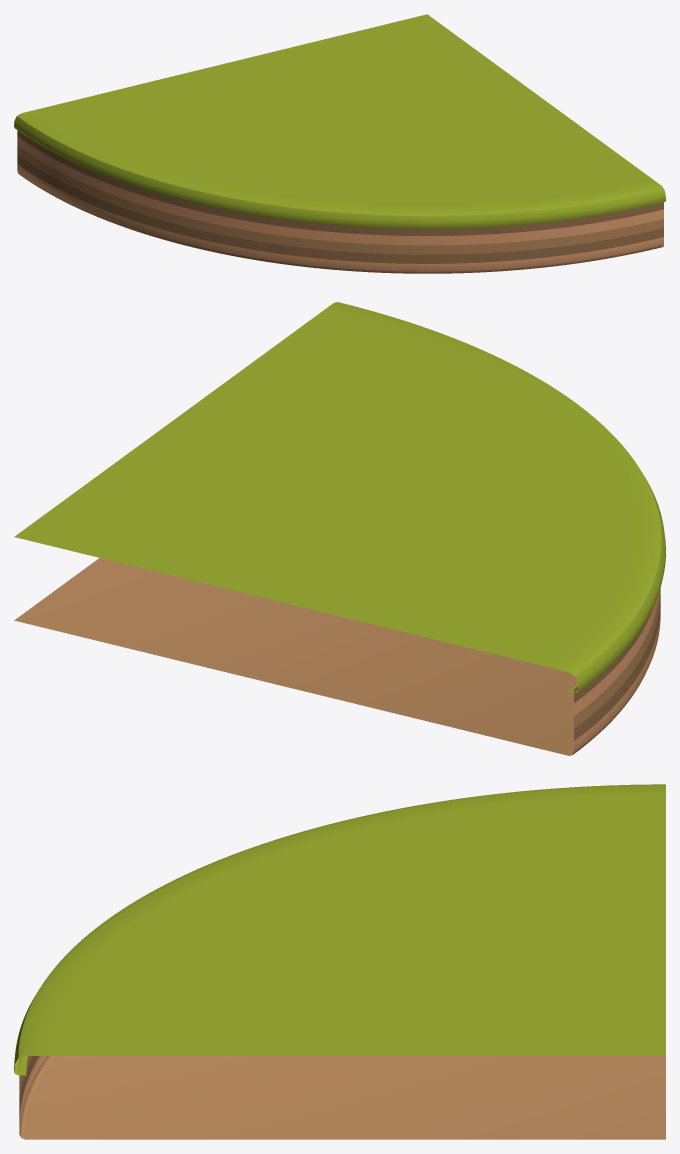
File: platform_grass_corner_round7.gltf
3 renders of one model, top to bottom at view 1: azimuth 30°, elevation 25°; view 2: azimuth 150°, elevation 25°; view 3: azimuth 270°, elevation 25°, orthographic. The views are drawn at different scales.
Visible parts, largest first — view 1: Cube_Grass_Corner_Round7; view 2: Cube_Grass_Corner_Round7; view 3: Cube_Grass_Corner_Round7.
Part boxes in pixels (x1=…): Cube_Grass_Corner_Round7: x1=14, y1=14, x2=665, y2=273; Cube_Grass_Corner_Round7: x1=14, y1=302, x2=665, y2=755; Cube_Grass_Corner_Round7: x1=14, y1=784, x2=665, y2=1139.
Size of the model in its own units: 14.12 by 2 by 14.12.
